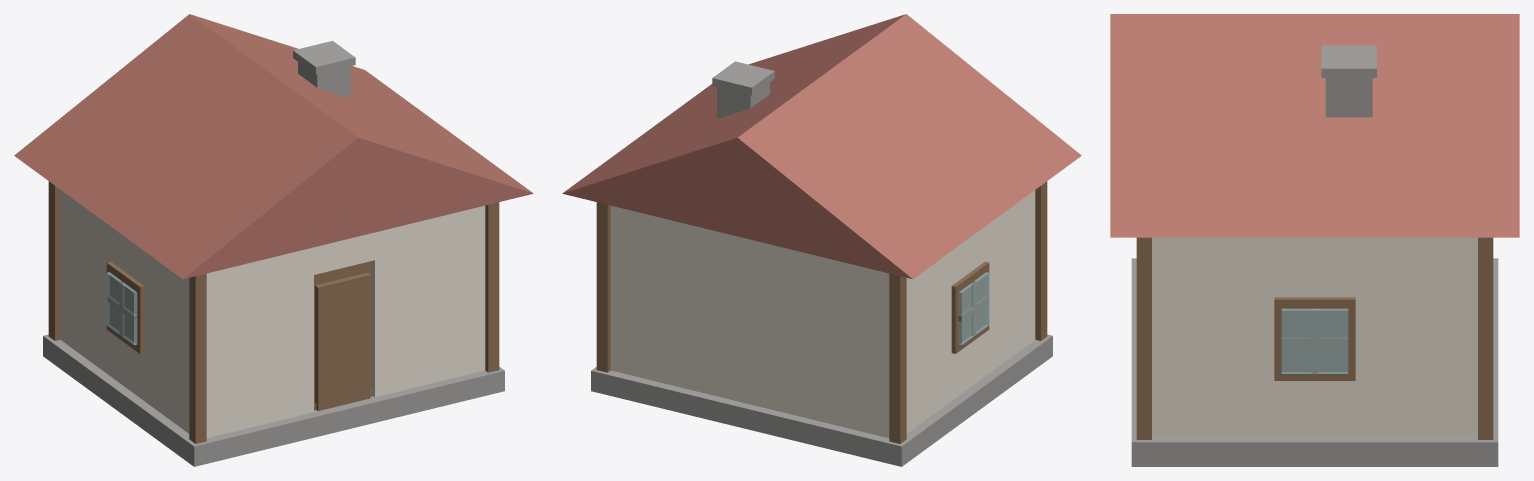
The model's file is BLD-cottage-01.glb.
3 views of the same model, side by side, from view 1: azimuth 30°, elevation 25°; view 2: azimuth 150°, elevation 25°; view 3: azimuth 270°, elevation 25° (orthographic). The views are drawn at different scales.
Parts seen in each view (by area): view 1: BLD-cottage-01; view 2: BLD-cottage-01; view 3: BLD-cottage-01.
Boxes of the visible parts, <box> form: BLD-cottage-01: <box>14,14,533,466</box>; BLD-cottage-01: <box>562,14,1081,466</box>; BLD-cottage-01: <box>1110,14,1519,466</box>.
Bounding box in the file's own units: 5.76 × 4.67 × 4.8.
